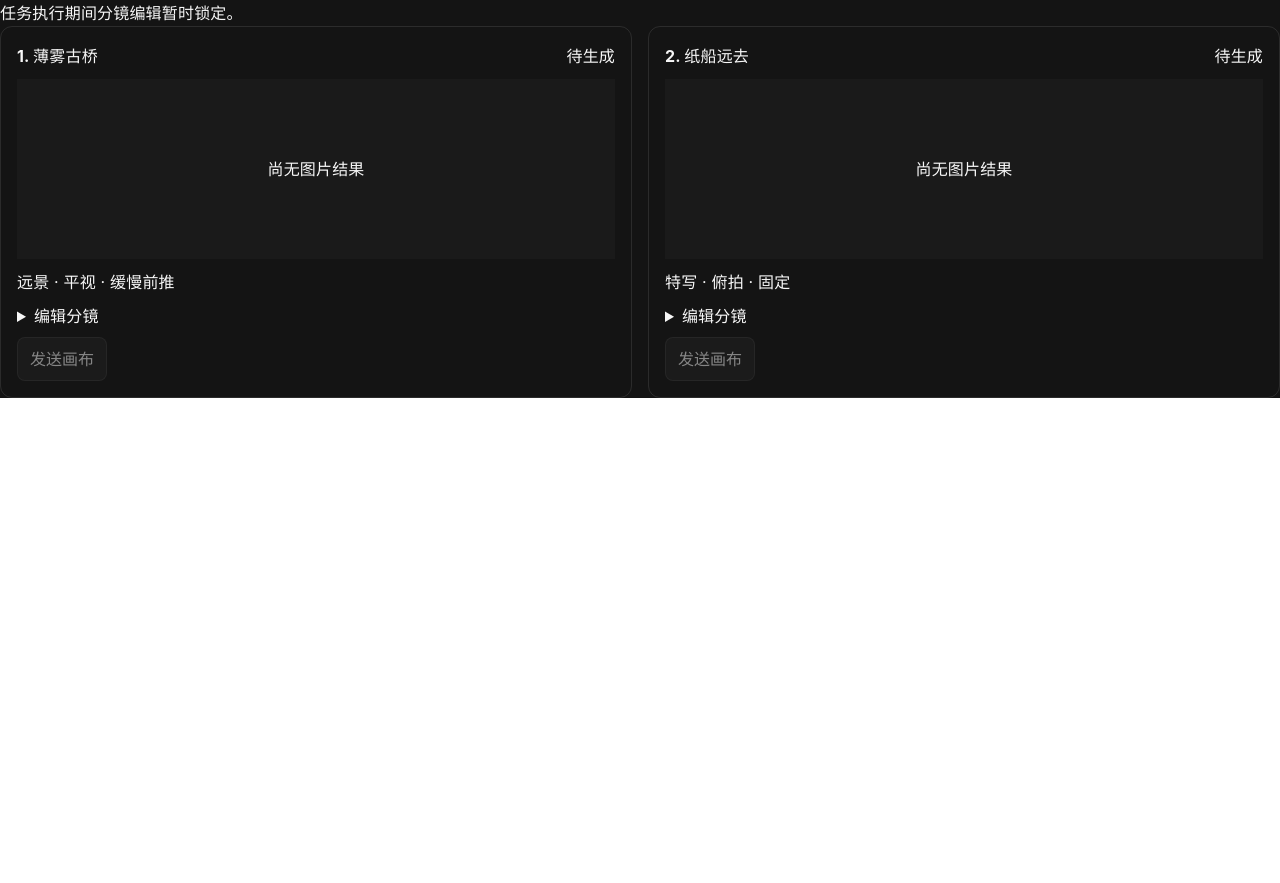
busy cards prevent edits and expose the reason without hiding controls
Click the heading "编辑分镜" below "远景".
click(66, 316)  # box [34,306,99,326]
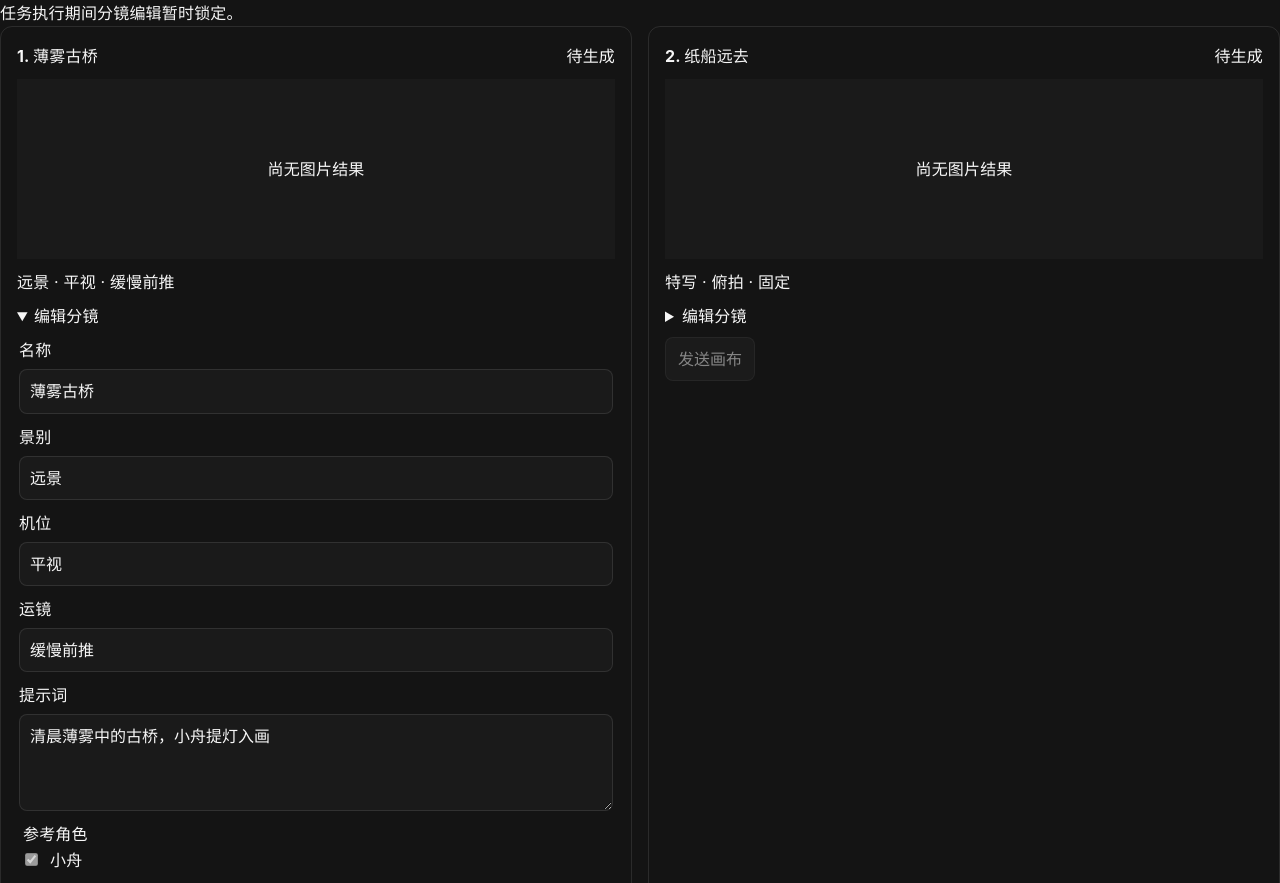
expect the text "任务执行期间分镜编辑暂时锁定。" is shown: met, box [0,3,243,23]
expect the text box named "分镜 1 提示词" is disabled: met, box [19,714,613,810]
